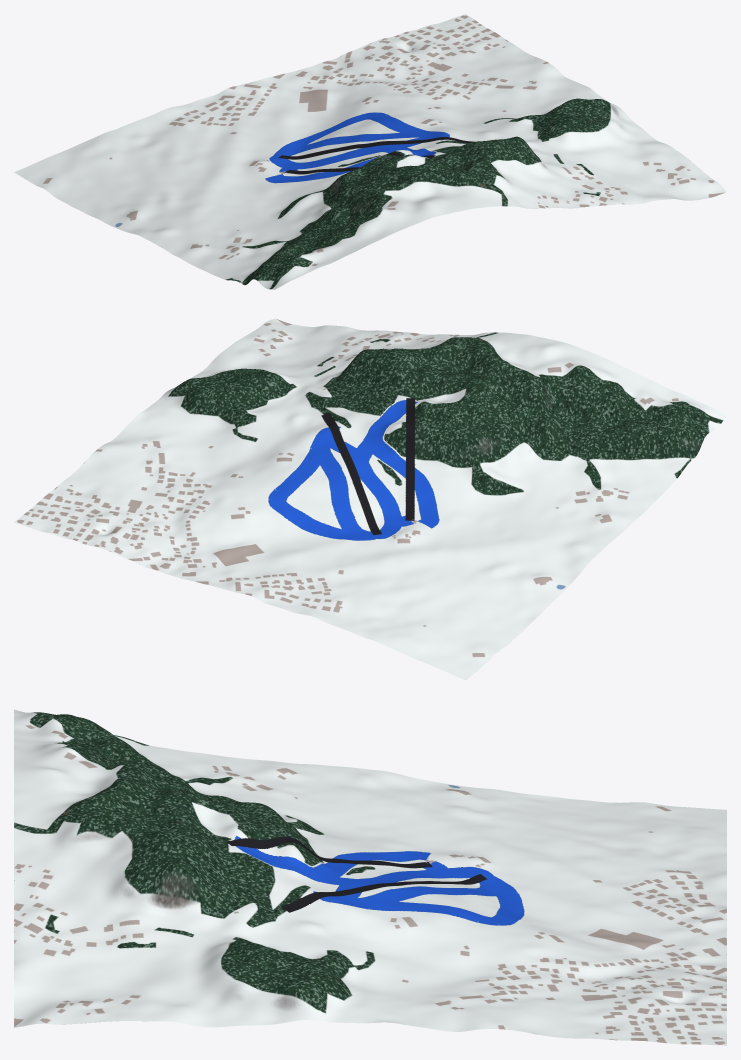
3 views of the same model, one above another, from view 1: azimuth 30°, elevation 25°; view 2: azimuth 150°, elevation 25°; view 3: azimuth 270°, elevation 25° (orthographic). The views are drawn at different scales.
Parts seen in each view (by area): view 1: E2_Oberberg.glb; view 2: E2_Oberberg.glb; view 3: E2_Oberberg.glb.
Boxes of the visible parts, bbox=[...] form: E2_Oberberg.glb: bbox=[14, 14, 726, 289]; E2_Oberberg.glb: bbox=[14, 318, 726, 680]; E2_Oberberg.glb: bbox=[14, 709, 726, 1045].
Bounding box in the file's own units: 1200 × 292 × 1200.
Materials: 1 (1 with a texture image).
